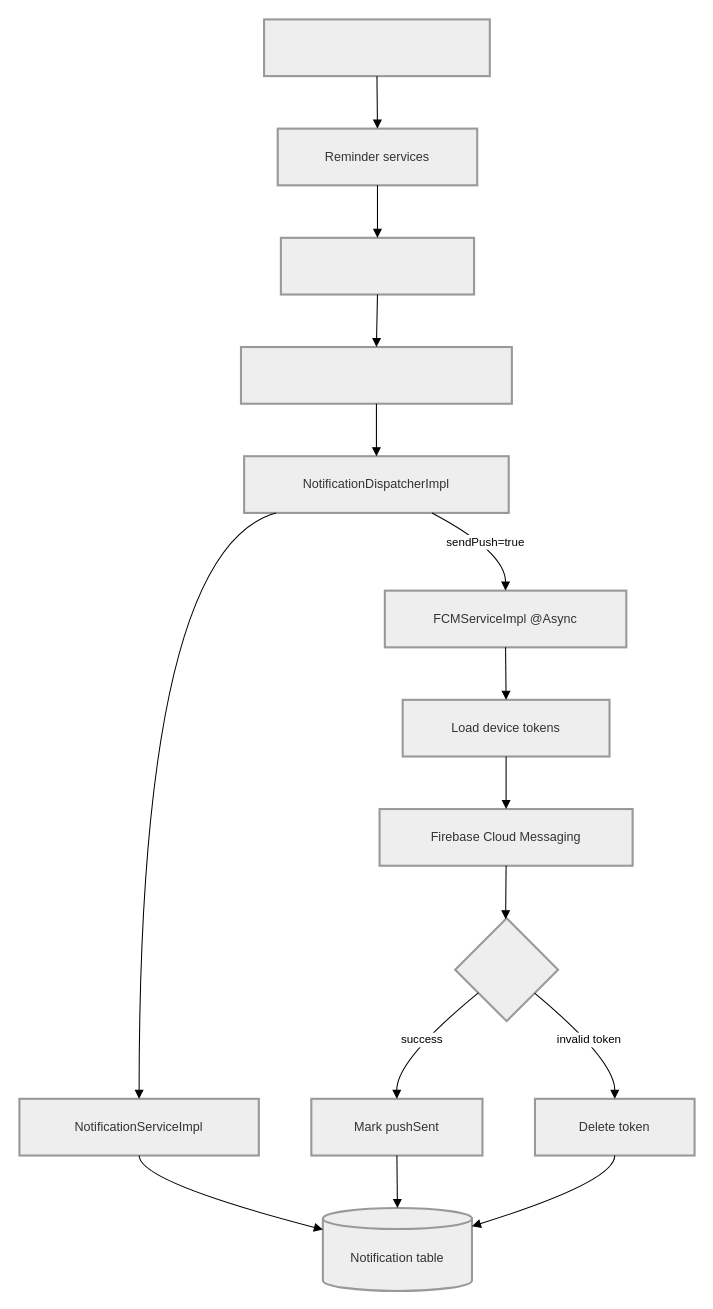
This 713x1309 diagram has some shape labels left out. Each missing label, with the centre of its shape:
"Build CreateNotificationDto" belongs at (375,374).
"Load preferences" belongs at (377,265).
"NotificationScheduler" belongs at (376,47).
"Result" belongs at (506,969).
